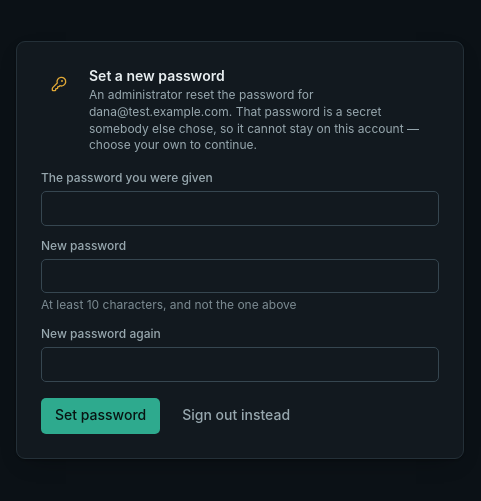
Test: a held account › cannot submit two different new passwords
The image size is (481, 501).
Expected: the heading "Set a new password" is shown, [89, 67, 225, 84]
Type "temp-pass-1234" into the password field labelled "The password you were given".
click(240, 208); type("temp-pass-1234")  # box [41, 191, 439, 226]
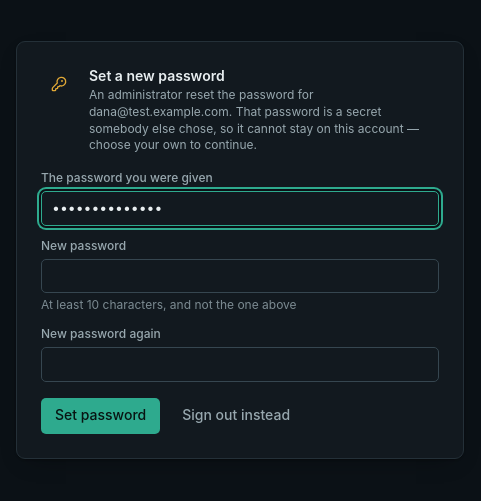
Type "chosen-pass-5678" into the password field labelled "New password".
click(240, 276); type("chosen-pass-5678")  # box [41, 259, 439, 293]
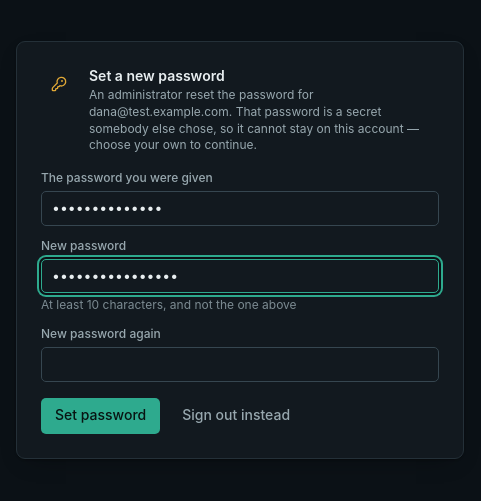
Type "chosen-pass-WRONG" into the password field labelled "New password again".
click(240, 364); type("chosen-pass-WRONG")  # box [41, 347, 439, 382]
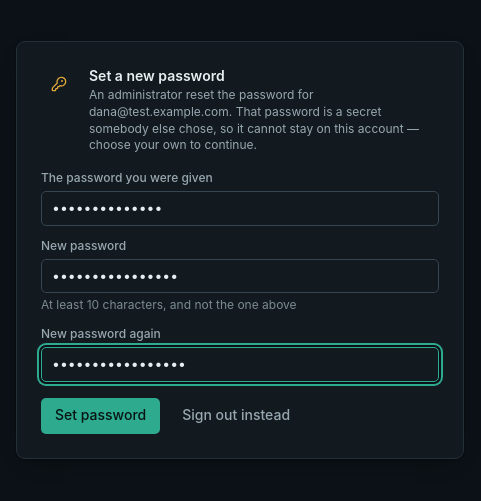
Click the button "Set password".
click(101, 416)  # box [41, 398, 160, 434]
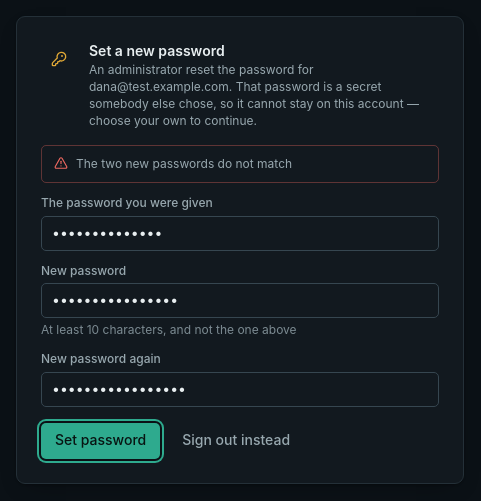
Expected: the text "The two new passwords do not match" is shown, [76, 154, 292, 174]
